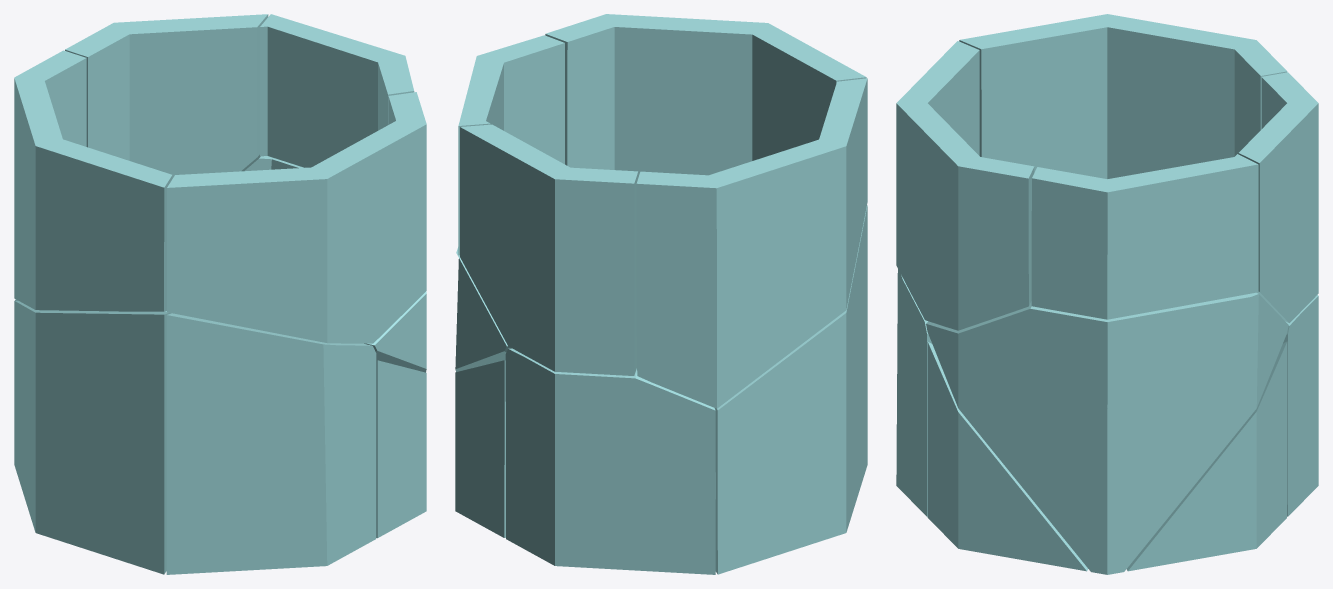
Rendered from pandemonium_whiskey_glass_fractured.fbx.
3 views of the same model, side by side, from view 1: azimuth 30°, elevation 25°; view 2: azimuth 150°, elevation 25°; view 3: azimuth 270°, elevation 25° (orthographic).
Visible parts, largest first — view 1: Cylinder.018_cell.009, Cylinder.018_cell.004, Cylinder.018_cell.005, Cylinder.018_cell.002, Cylinder.018_cell.006, Cylinder.018_cell.003, Cylinder.018_cell.001, Cylinder.018_cell.007; view 2: Cylinder.018_cell.002, Cylinder.018_cell.008, Cylinder.018_cell.004, Cylinder.018_cell.006, Cylinder.018_cell.005, Cylinder.018_cell.003, Cylinder.018_cell, Cylinder.018_cell.007; view 3: Cylinder.018_cell.007, Cylinder.018_cell.002, Cylinder.018_cell.003, Cylinder.018_cell.004, Cylinder.018_cell.001, Cylinder.018_cell, Cylinder.018_cell.006, Cylinder.018_cell.009, Cylinder.018_cell.008.
Part boxes in pixels (x1,y1,x2,y2): Cylinder.018_cell.009: (166,313,376,574); Cylinder.018_cell.004: (167,92,426,343); Cylinder.018_cell.005: (14,300,171,574); Cylinder.018_cell.002: (14,50,172,311); Cylinder.018_cell.006: (65,14,268,178); Cylinder.018_cell.003: (260,14,414,167); Cylinder.018_cell.001: (376,360,426,538); Cylinder.018_cell.007: (241,154,426,372); Cylinder.018_cell.002: (636,78,867,408); Cylinder.018_cell.008: (505,348,715,574); Cylinder.018_cell.004: (545,14,866,177); Cylinder.018_cell.006: (460,124,638,375); Cylinder.018_cell.005: (714,205,867,574); Cylinder.018_cell.003: (458,35,564,255); Cylinder.018_cell: (455,360,505,537); Cylinder.018_cell.007: (455,247,511,371); Cylinder.018_cell.007: (926,292,1288,574); Cylinder.018_cell.002: (959,14,1287,178); Cylinder.018_cell.003: (1031,154,1258,319); Cylinder.018_cell.004: (896,41,1034,330); Cylinder.018_cell.001: (927,342,1087,571); Cylinder.018_cell: (1127,341,1287,571); Cylinder.018_cell.006: (1238,72,1318,323); Cylinder.018_cell.009: (896,269,932,516); Cylinder.018_cell.008: (1283,295,1318,516).
Size of the model in its own units: 30.89 by 30.89 by 30.89.
